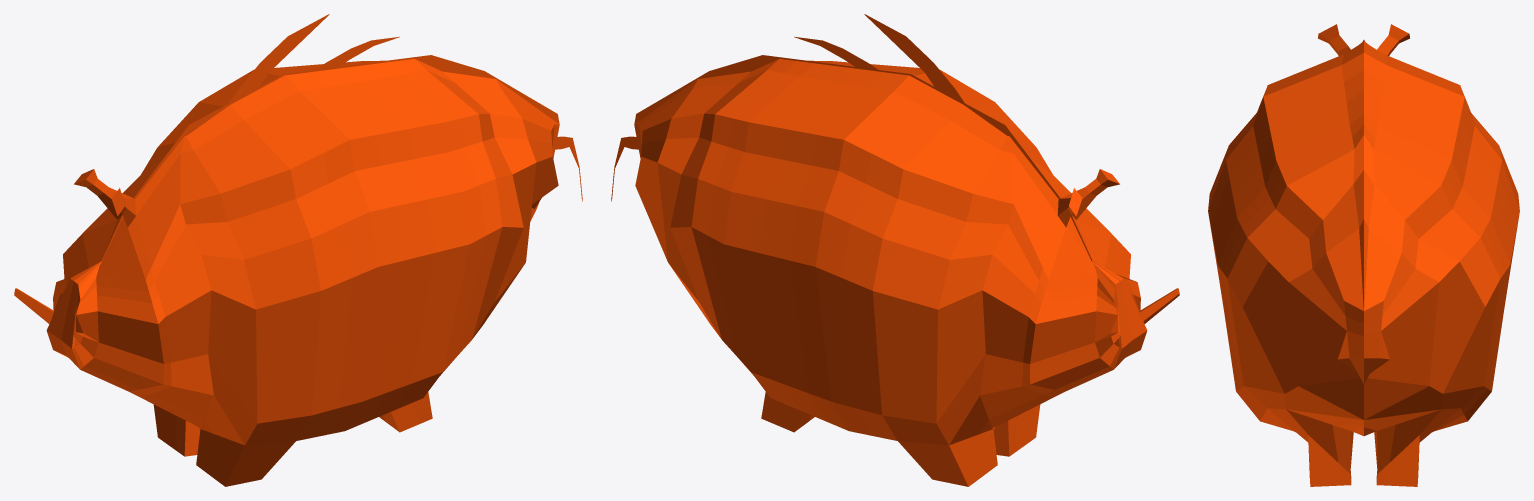
File: pig.glb
The picture shows the model from 3 angles, left to right: view 1: azimuth 30°, elevation 25°; view 2: azimuth 150°, elevation 25°; view 3: azimuth 270°, elevation 25°; orthographic projection. The views are drawn at different scales.
Parts seen in each view (by area): view 1: Plane; view 2: Plane; view 3: Plane.
Part boxes in pixels (x1,y1,x2,y2): Plane: [14, 14, 582, 486]; Plane: [611, 14, 1179, 486]; Plane: [1208, 24, 1519, 486].
Size of the model in its own units: 8.06 by 5.97 by 3.85.
